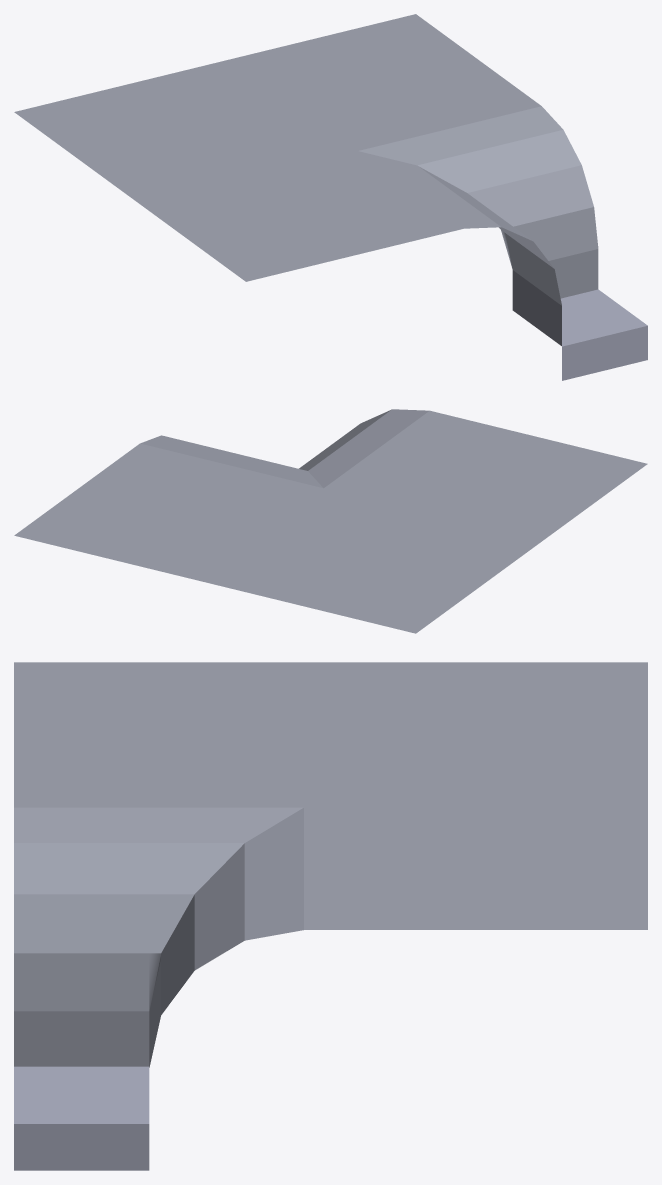
Rendered from frame_platform4.fbx.
The picture shows the model from 3 angles, top to bottom: view 1: azimuth 30°, elevation 25°; view 2: azimuth 150°, elevation 25°; view 3: azimuth 270°, elevation 25°; orthographic projection. The views are drawn at different scales.
Visible parts, largest first — view 1: frame_platform4; view 2: frame_platform4; view 3: frame_platform4.
Part boxes in pixels (x1=…): frame_platform4: x1=14, y1=14, x2=647, y2=380; frame_platform4: x1=14, y1=409, x2=647, y2=633; frame_platform4: x1=14, y1=662, x2=647, y2=1170.
Size of the model in its own units: 100 by 41.88 by 100.
